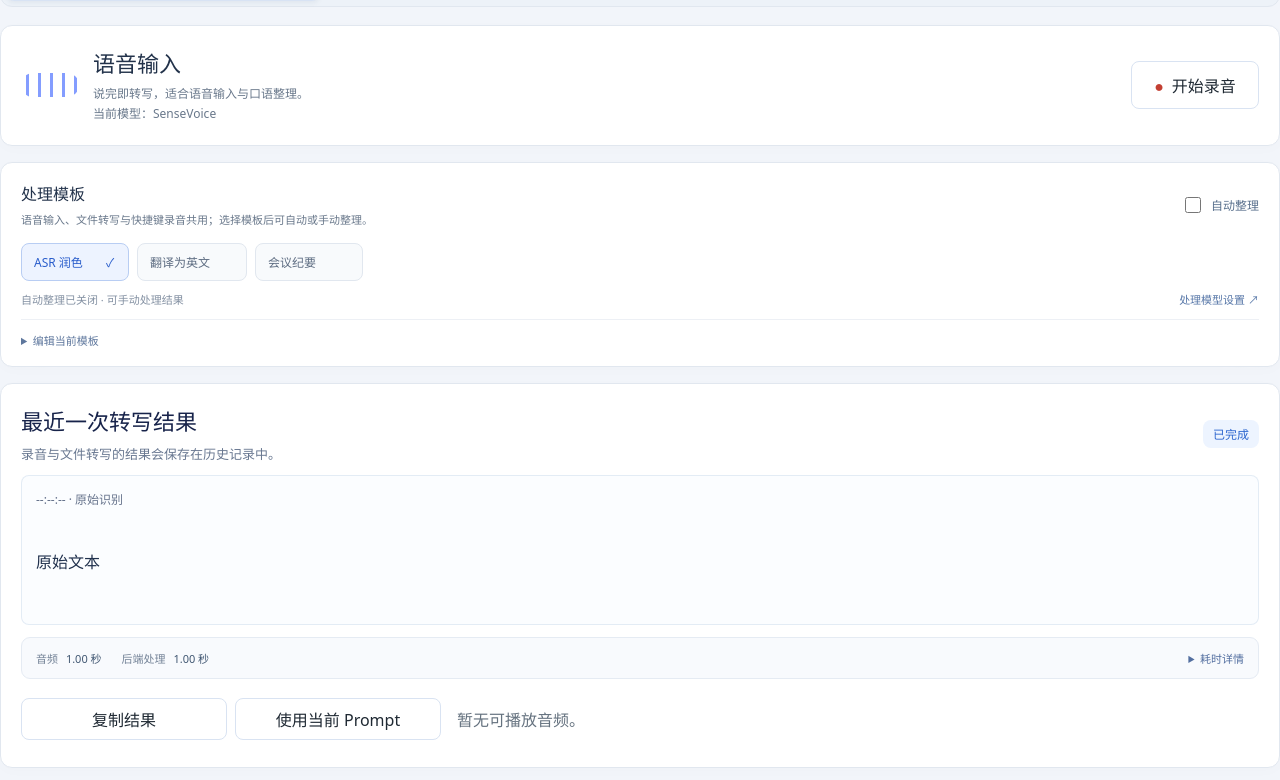
Test case: recognition task workspaces › routes manual text processing through the ASR task model and key
(page scrolled)
Click the button "使用当前 Prompt".
click(338, 720)  # box [235,698,441,740]
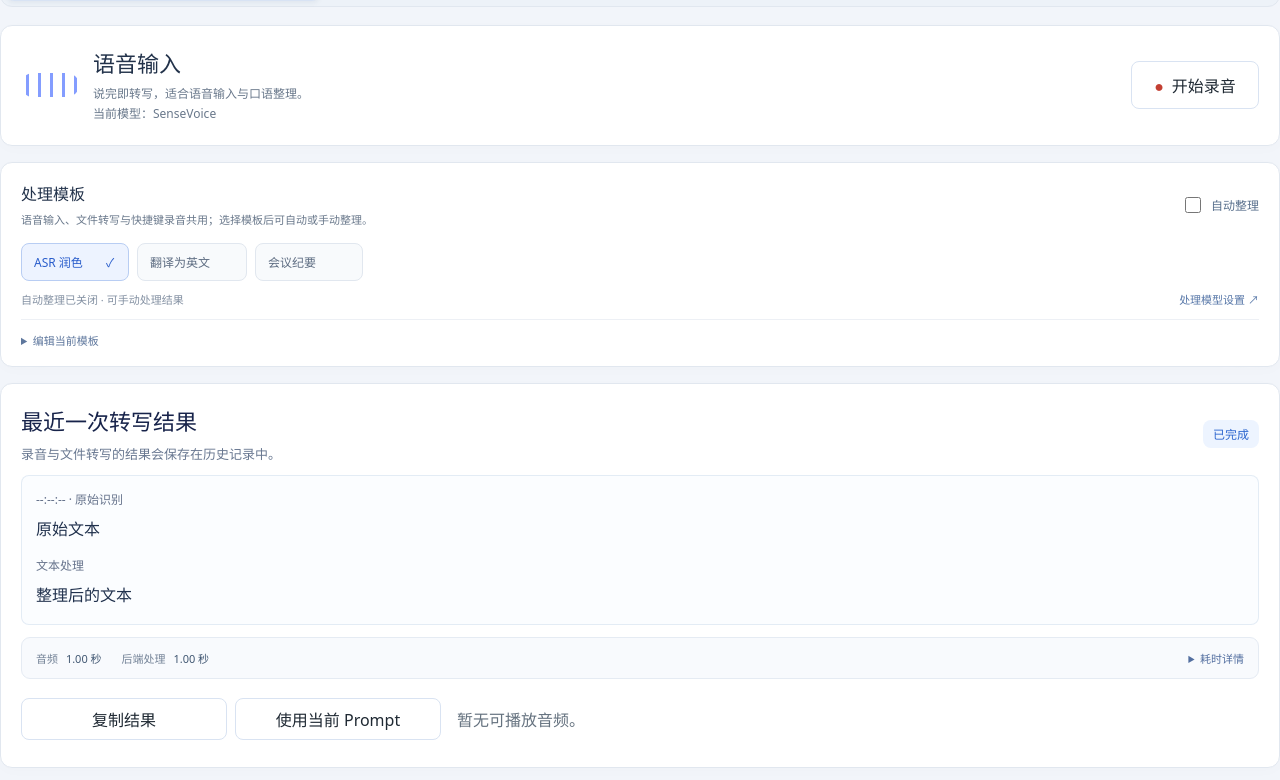
Result: the text "整理后的文本" is shown at [36,584,132,606]
